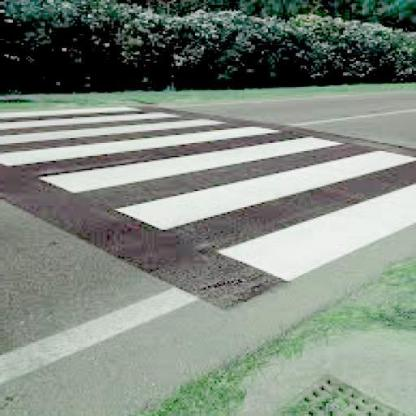crosswalk: (2, 114, 350, 199)
